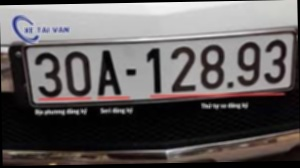Bien-so: (23, 28, 297, 108)
